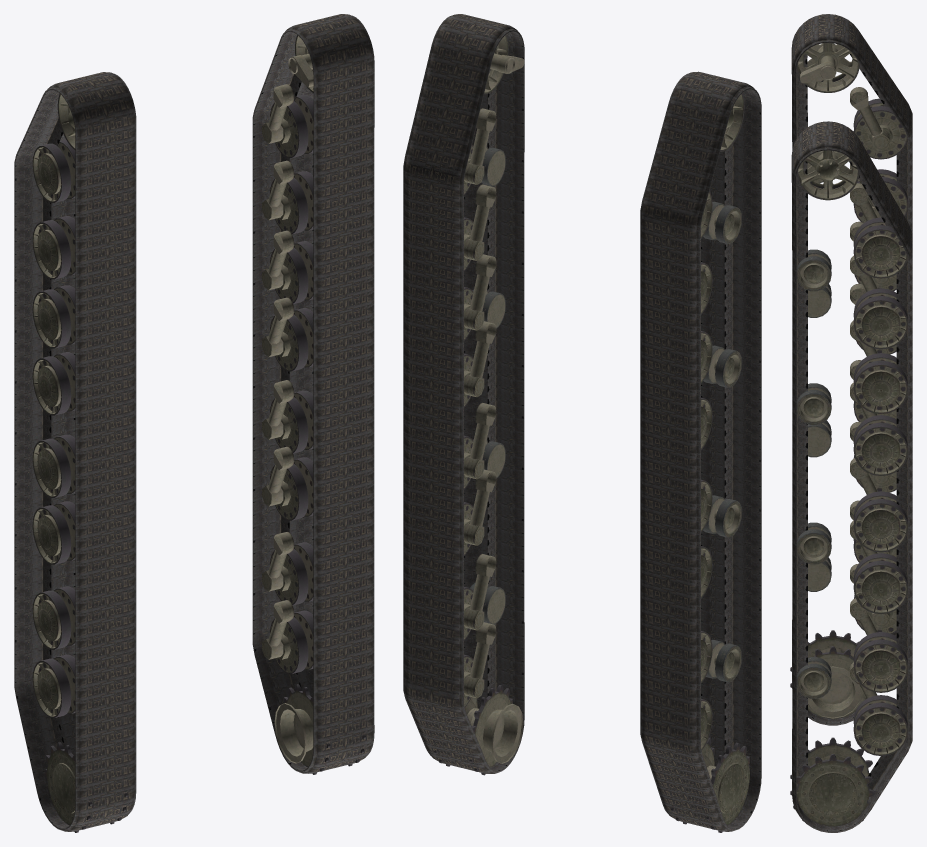
The model's file is Chassis.glb.
3 views of the same model, side by side, from view 1: azimuth 30°, elevation 25°; view 2: azimuth 150°, elevation 25°; view 3: azimuth 270°, elevation 25° (orthographic). The views are drawn at different scales.
Visible parts, largest first — view 1: set_0_group_0, set_1_group_0, set_3_group_0, set_2_group_0; view 2: set_0_group_0, set_1_group_0, set_3_group_0, set_2_group_0; view 3: set_3_group_0, set_1_group_0, set_2_group_0, set_0_group_0.
Boxes of the visible parts, <box> form: set_0_group_0: <box>14,72,136,831</box>; set_1_group_0: <box>252,14,374,773</box>; set_3_group_0: <box>262,35,365,774</box>; set_2_group_0: <box>32,94,127,832</box>; set_0_group_0: <box>640,71,761,831</box>; set_1_group_0: <box>403,14,524,773</box>; set_3_group_0: <box>434,35,524,775</box>; set_2_group_0: <box>671,93,749,832</box>; set_3_group_0: <box>790,150,907,826</box>; set_1_group_0: <box>791,121,912,832</box>; set_2_group_0: <box>790,43,907,718</box>; set_0_group_0: <box>791,14,912,725</box>.
Size of the model in its own units: 3.44 by 8.24 by 1.32.
4 materials, 4 textured.
